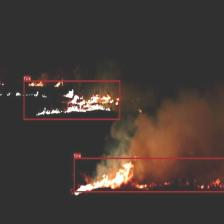fire: (73, 157, 224, 192), (24, 80, 120, 120)
